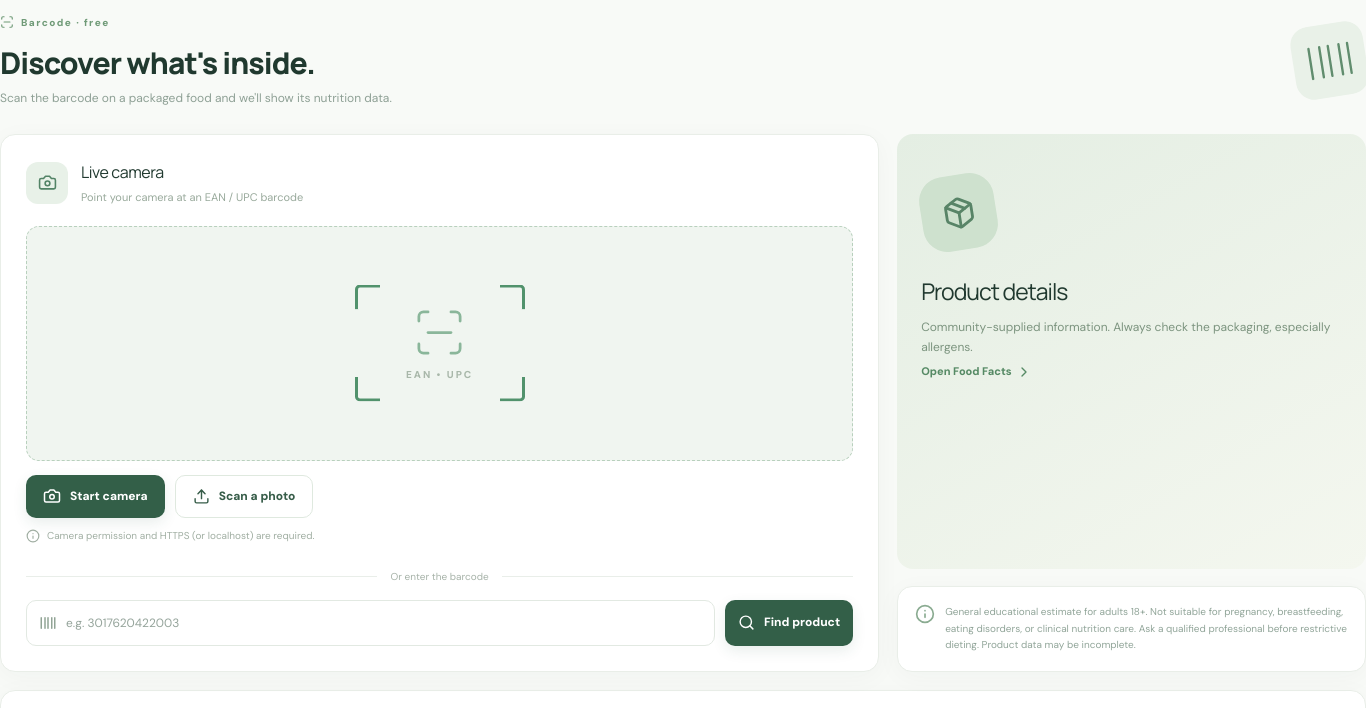
Test: allows a scanned food portion to be erased and saves its replacement
This screenshot has width=1366, height=708.
Later steps or results of the test are not shown.
Type "3017620422003" into the field named "Or enter the barcode". click: {"x": 384, "y": 623}
box: x1=66 y1=601 x2=702 y2=645
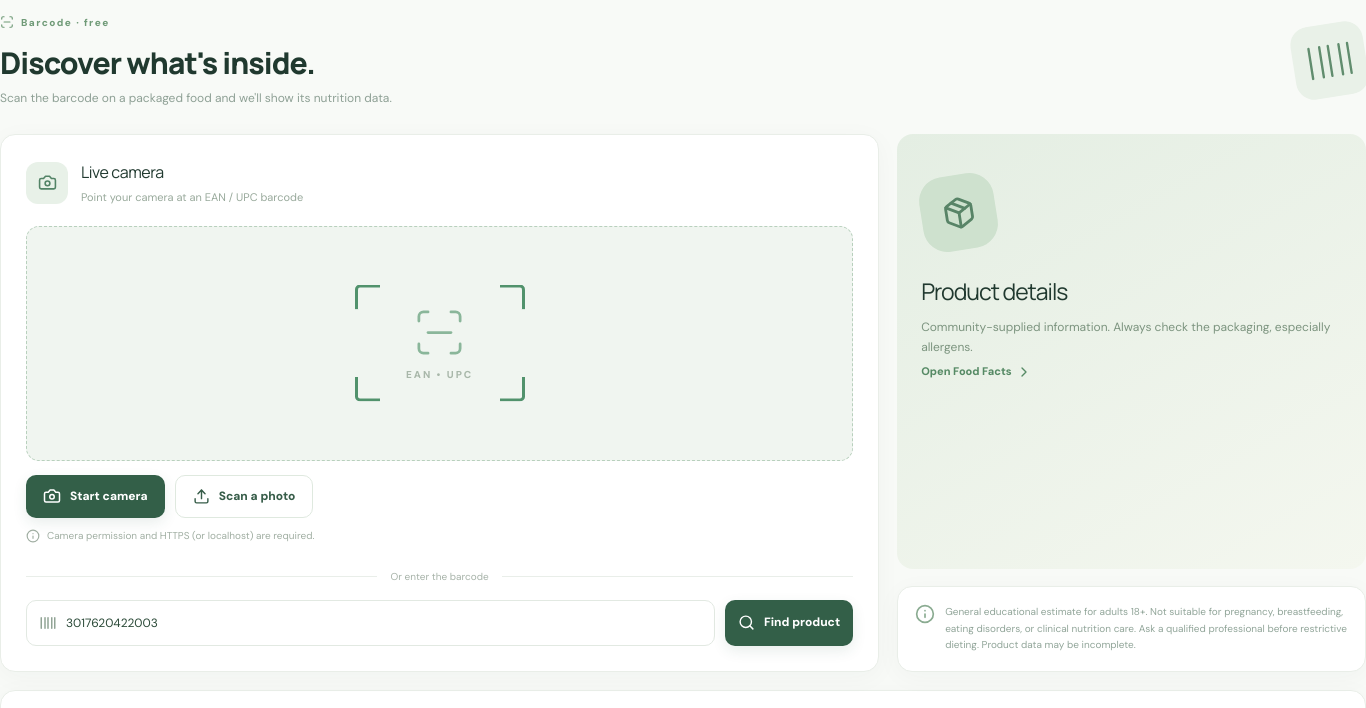
Click the button "Find product". click: {"x": 789, "y": 623}
box: x1=725 y1=600 x2=853 y2=646
(page scrolled)
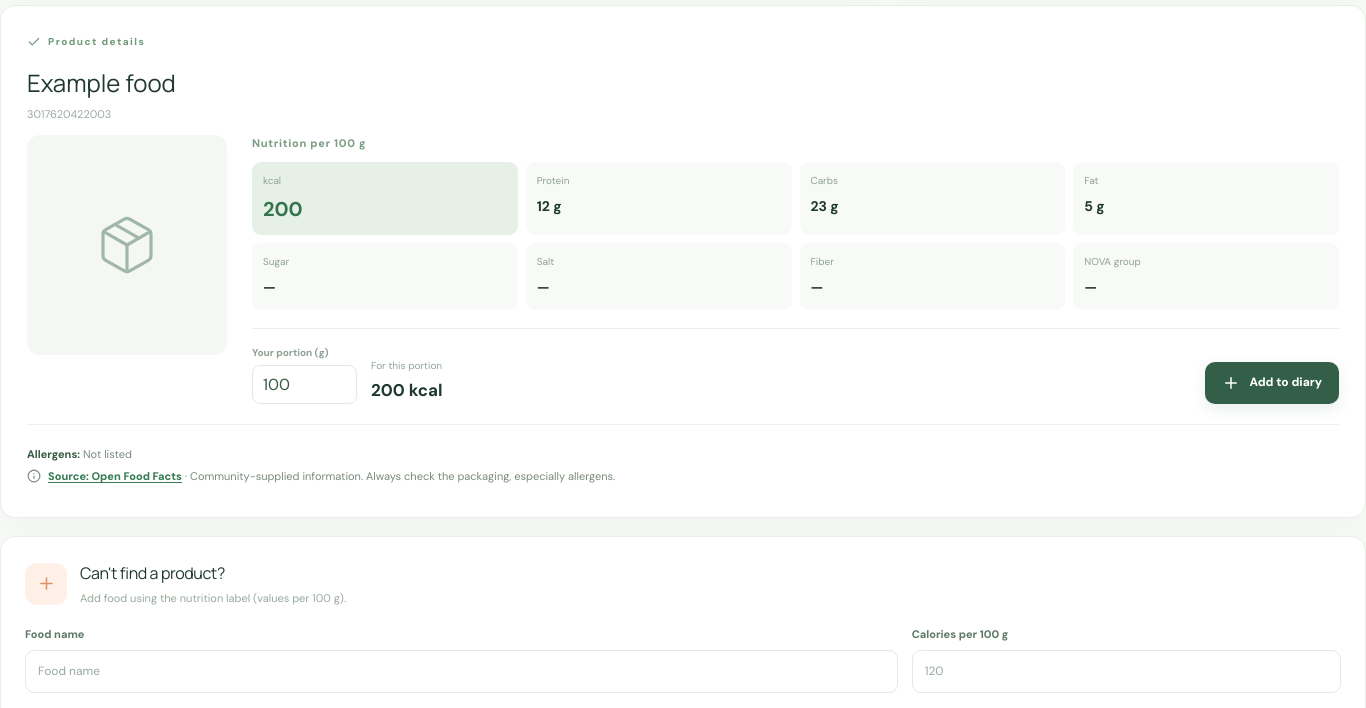
Clear the number field labelled "Your portion (g)" next to "For this portion". click: {"x": 304, "y": 384}
box: x1=252 y1=365 x2=357 y2=404
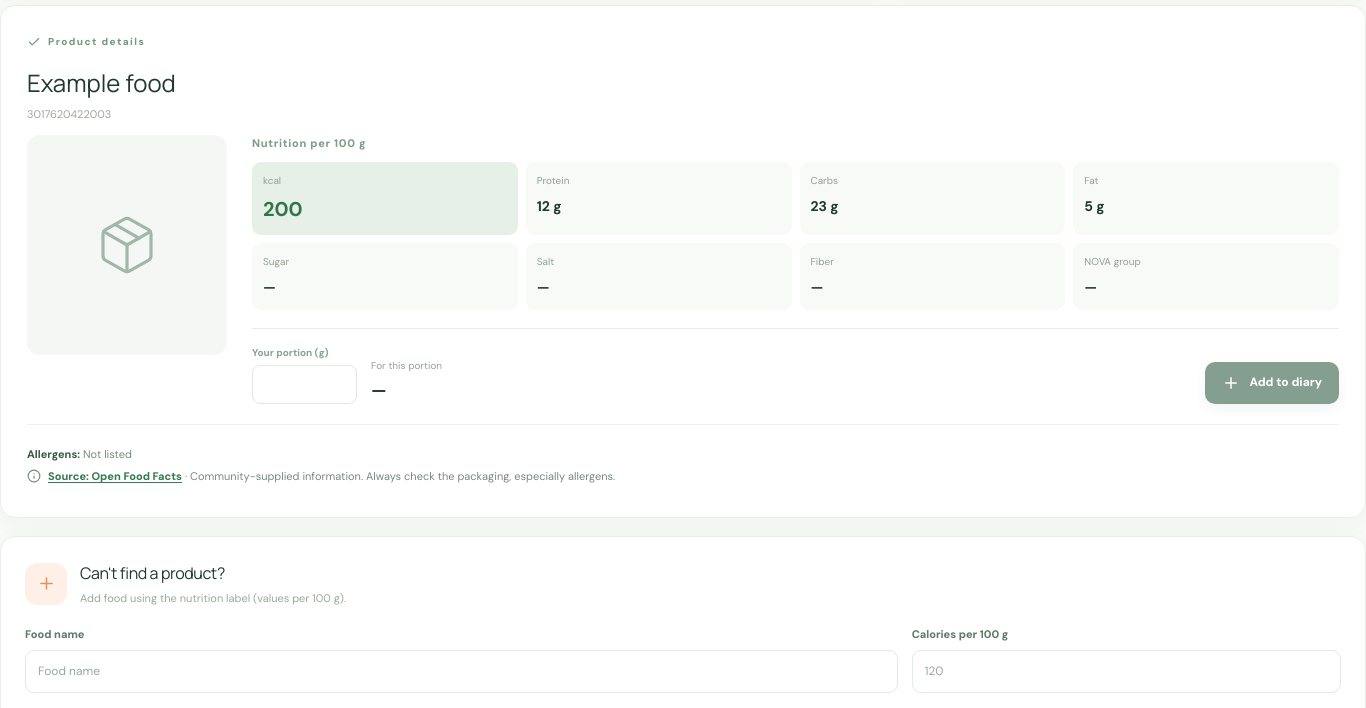
Check: the button "Add to diary" is disabled, box x1=1205 y1=362 x2=1339 y2=404
